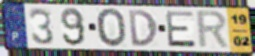3: (27, 6, 55, 46)
9: (59, 6, 87, 47)
D: (126, 9, 160, 48)
E: (164, 10, 198, 49)
O: (95, 7, 129, 49)
R: (196, 9, 232, 51)
